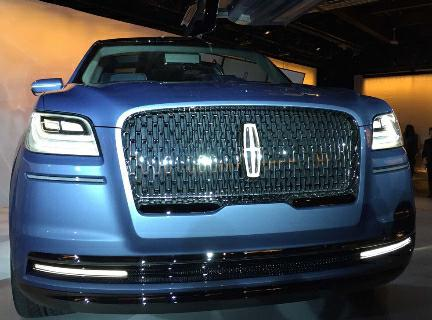林肯-领航员: (8, 34, 410, 317)
